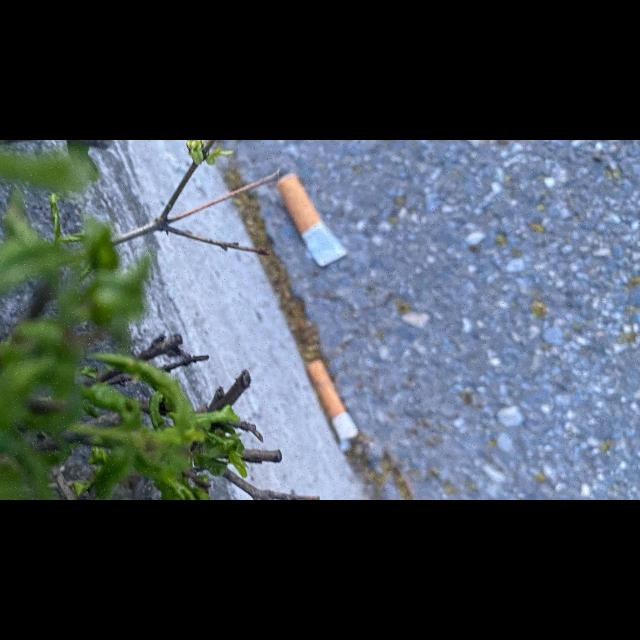cigarette: (276, 172, 348, 268), (307, 358, 359, 441)
